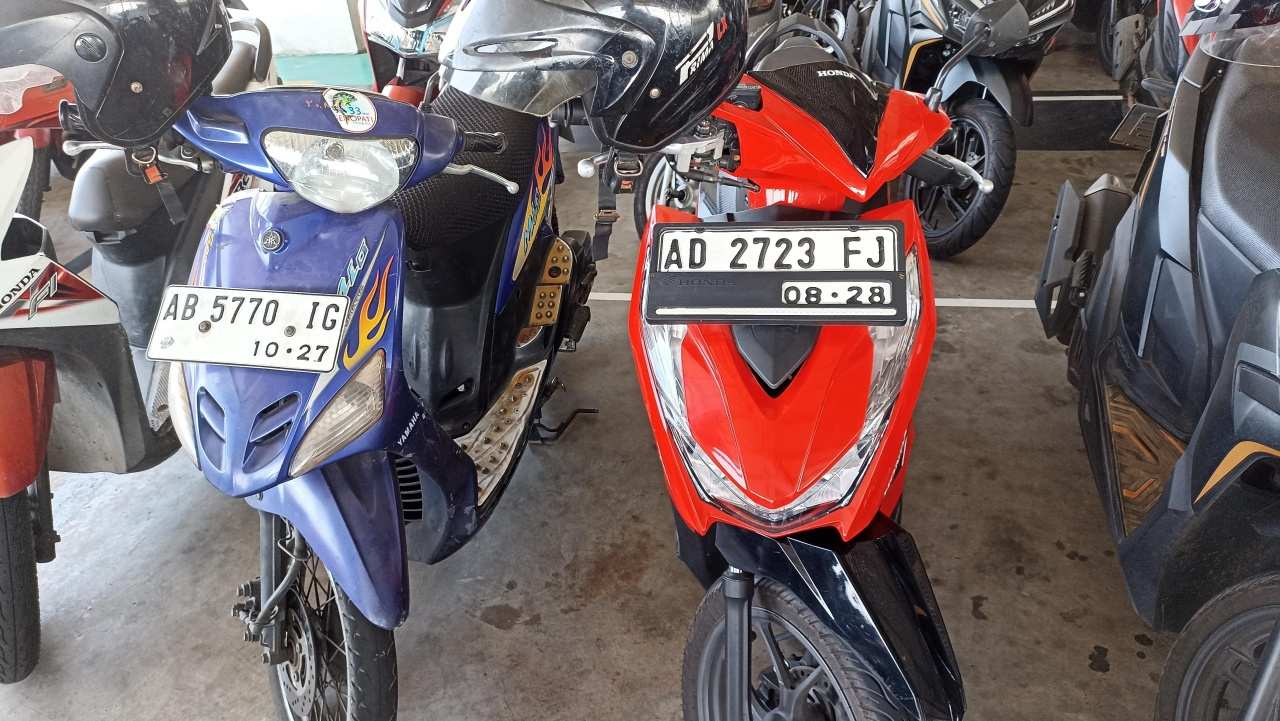plate: (649, 223, 904, 319), (146, 285, 351, 373)
